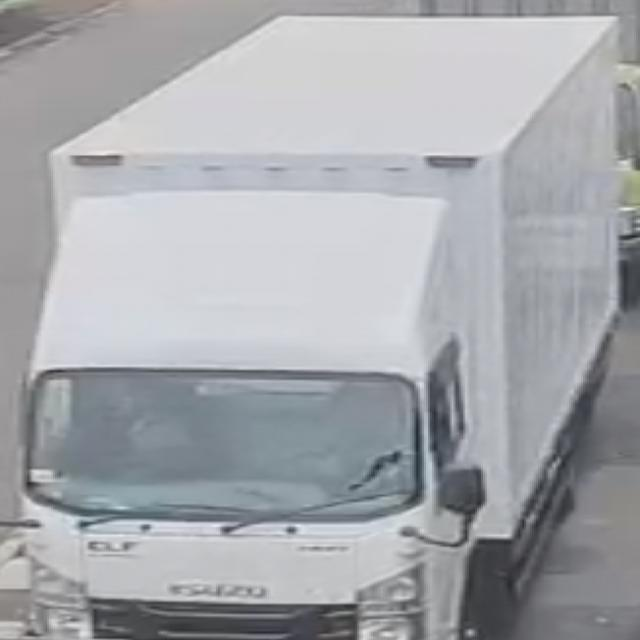Truck: (14, 4, 624, 640)
